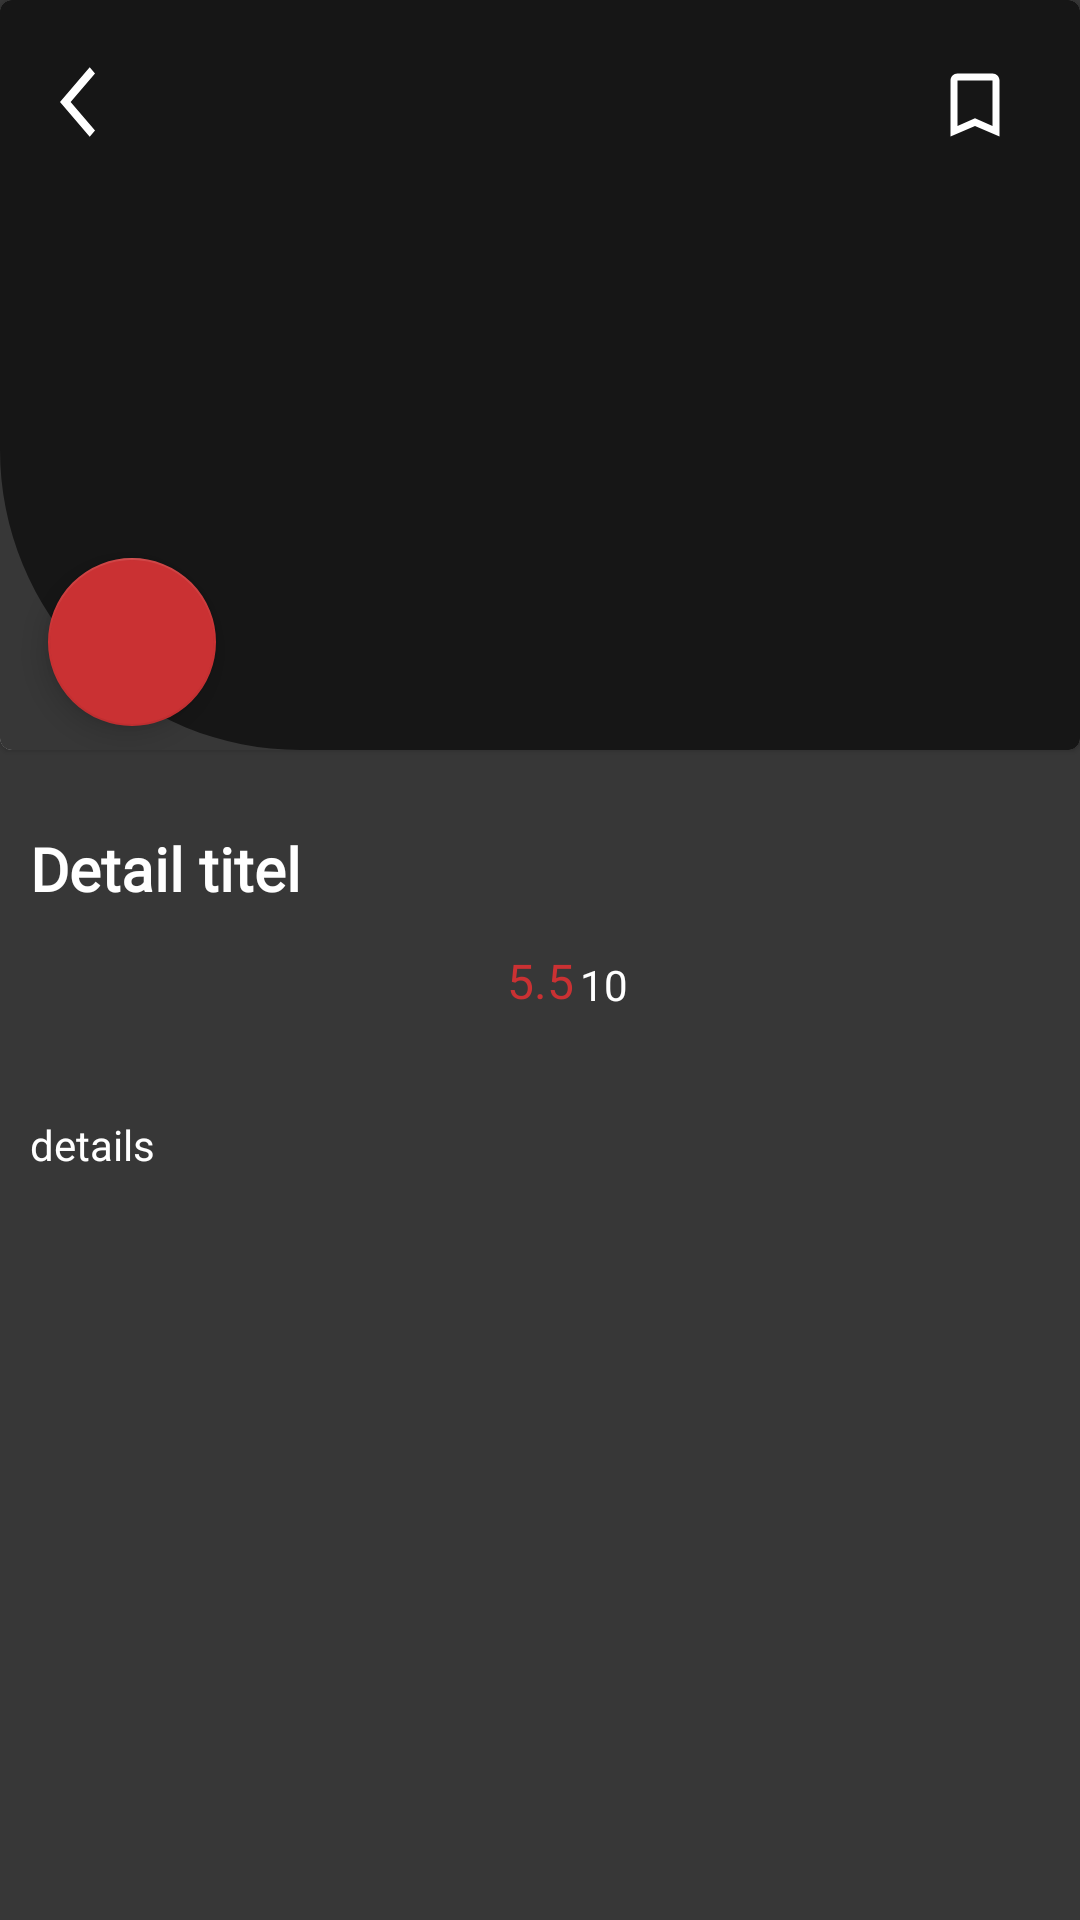

Icon click points for this 1080 × 1920 phone screenshot, format (x=x, y=y):
arrow back: (x=77, y=102)
bookmark border: (x=975, y=105)
